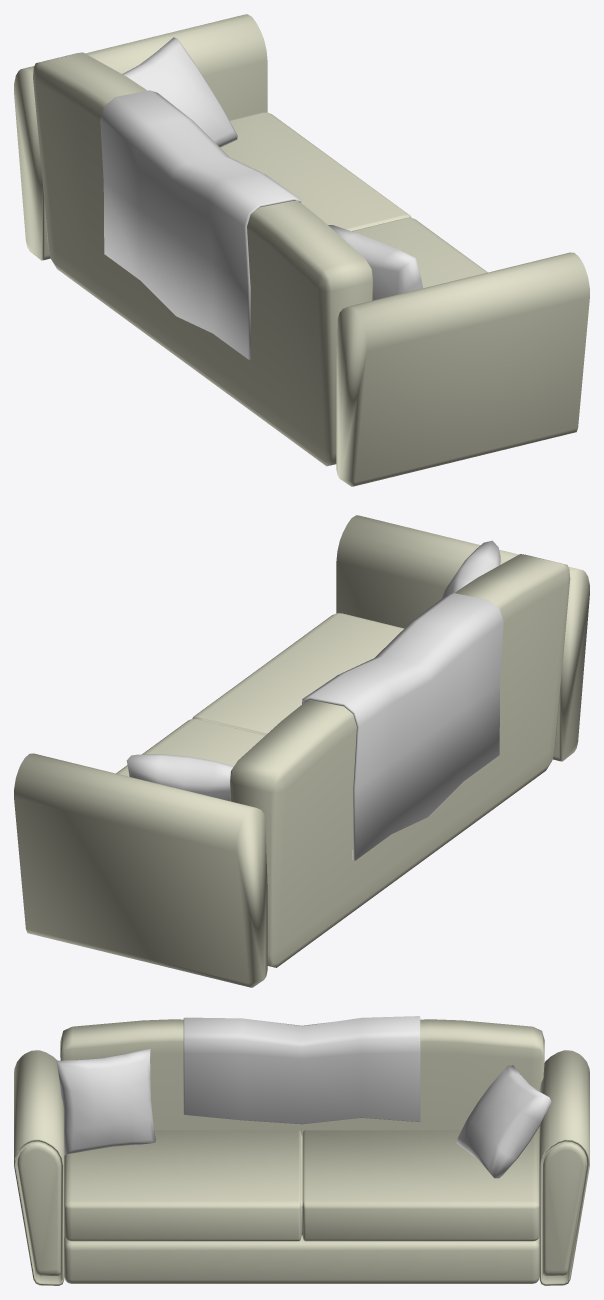
File: Sofa_Type1.fbx
The picture shows the model from 3 angles, top to bottom: view 1: azimuth 30°, elevation 25°; view 2: azimuth 150°, elevation 25°; view 3: azimuth 270°, elevation 25°; orthographic projection. The views are drawn at different scales.
Parts seen in each view (by area): view 1: Cube.002, Cube.003, Plane, Cube.001, Cube.004, Cube.005; view 2: Cube.002, Cube.003, Plane, Cube.001, Cube.004, Cube.005; view 3: Cube.001, Plane, Cube.002, Cube, Cube.003, Cube.005, Cube.004.
Part boxes in pixels (<box>): Cube.002: <box>14,14,589,486</box>; Cube.003: <box>33,52,373,466</box>; Plane: <box>100,90,301,359</box>; Cube.001: <box>220,112,487,288</box>; Cube.004: <box>122,37,237,147</box>; Cube.005: <box>328,225,422,300</box>; Cube.002: <box>14,515,589,987</box>; Cube.003: <box>230,554,570,967</box>; Plane: <box>302,593,503,860</box>; Cube.001: <box>116,613,404,776</box>; Cube.004: <box>126,754,233,801</box>; Cube.005: <box>441,540,500,598</box>; Cube.001: <box>64,1130,539,1241</box>; Plane: <box>183,1016,420,1124</box>; Cube.002: <box>14,1050,589,1285</box>; Cube: <box>64,1235,539,1283</box>; Cube.003: <box>60,1019,544,1136</box>; Cube.005: <box>56,1049,155,1155</box>; Cube.004: <box>456,1065,551,1178</box>.
Size of the model in its own units: 259 by 226 by 655.
